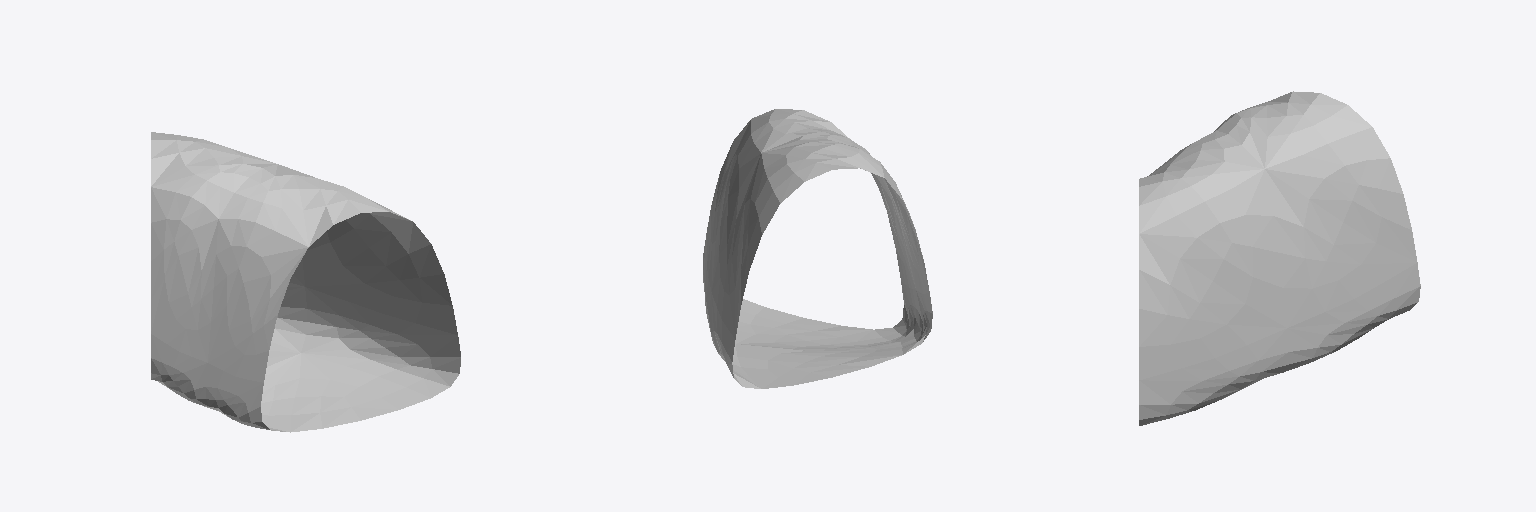
File: cave_601_1.obj
The picture shows the model from 3 angles: view 1: azimuth 30°, elevation 25°; view 2: azimuth 150°, elevation 25°; view 3: azimuth 270°, elevation 25°; orthographic projection.
Visible parts, largest first — view 1: cave_601_1_Cube.019; view 2: cave_601_1_Cube.019; view 3: cave_601_1_Cube.019.
Part boxes in pixels (bbox=[...]): cave_601_1_Cube.019: bbox=[151, 132, 460, 432]; cave_601_1_Cube.019: bbox=[703, 109, 932, 388]; cave_601_1_Cube.019: bbox=[1139, 91, 1420, 425].
Size of the model in its own units: 7.91 by 6.81 by 7.14.